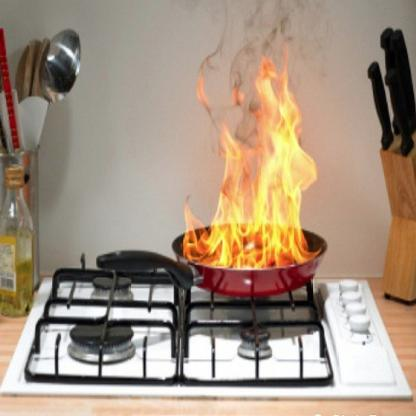fire: (173, 55, 323, 276)
smoke: (214, 1, 332, 90)
